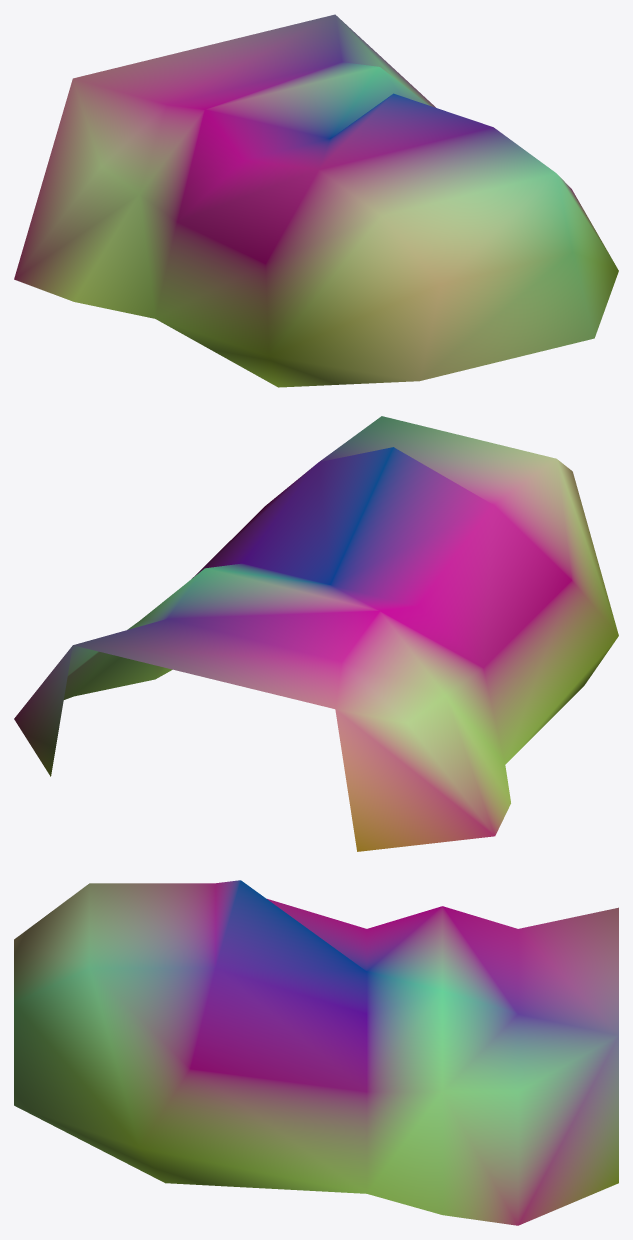
3 renders of one model, top to bottom at view 1: azimuth 30°, elevation 25°; view 2: azimuth 150°, elevation 25°; view 3: azimuth 270°, elevation 25°, orthographic.
Parts seen in each view (by area): view 1: part; view 2: part; view 3: part.
Boxes of the visible parts, left/top/right/bottom form: part: left=14, top=14, right=618, bottom=387; part: left=14, top=416, right=618, bottom=851; part: left=14, top=880, right=618, bottom=1225.
Size of the model in its own units: 22 by 10 by 24.
